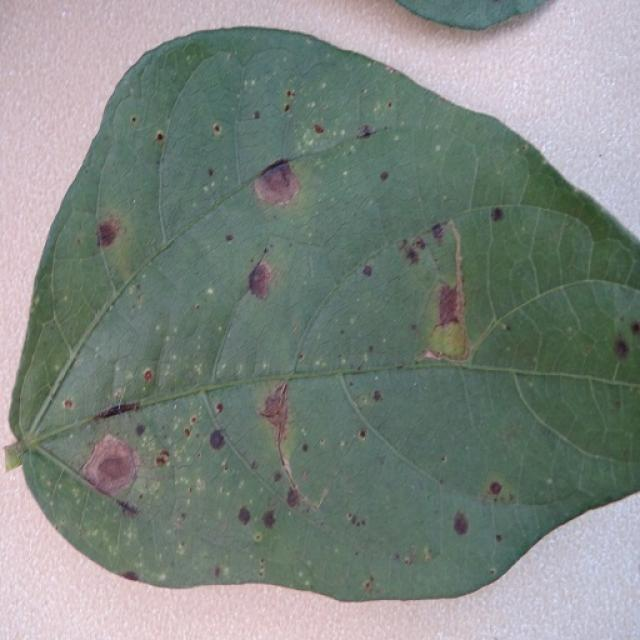Anthracnose: (78, 431, 143, 501), (251, 157, 300, 207), (241, 261, 276, 303), (481, 477, 516, 507), (260, 388, 286, 424), (437, 288, 460, 325), (95, 218, 122, 249), (208, 428, 227, 450), (453, 511, 469, 536), (614, 338, 629, 358), (237, 506, 251, 525), (619, 200, 639, 213), (404, 248, 419, 264), (142, 368, 154, 382), (362, 265, 373, 277), (155, 130, 165, 141), (213, 124, 220, 133)
Blackgram: (8, 29, 639, 600)
